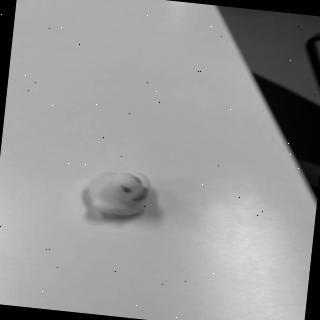duck_regular: (85, 167, 156, 221)
